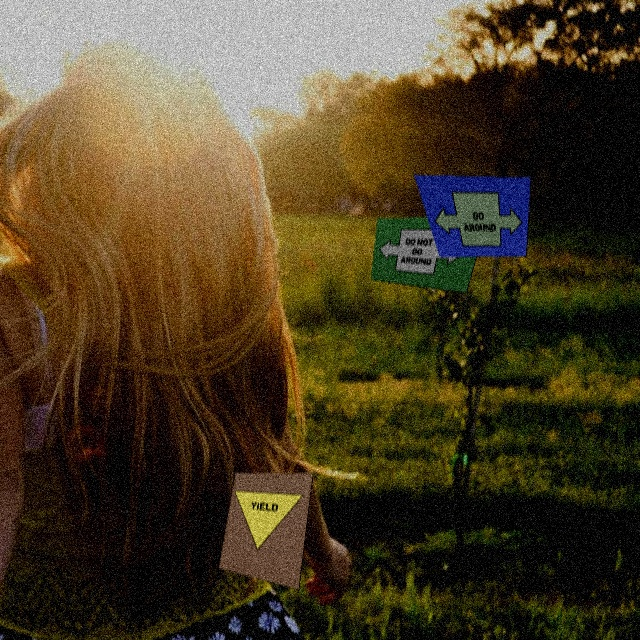DO_NOT_GO_AROUND: (377, 225, 470, 278)
GO_AROUND: (426, 191, 523, 247)
YIELD: (225, 482, 304, 558)
